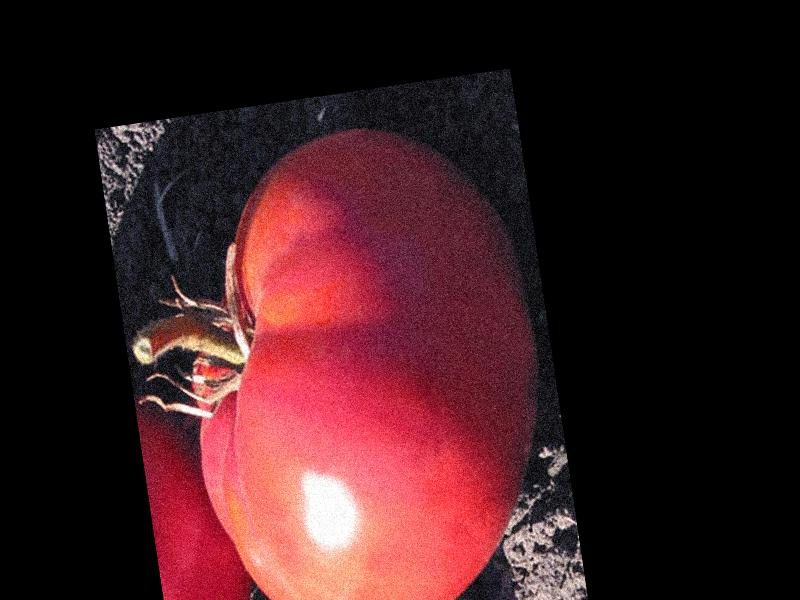Tomato: (158, 107, 573, 600)
